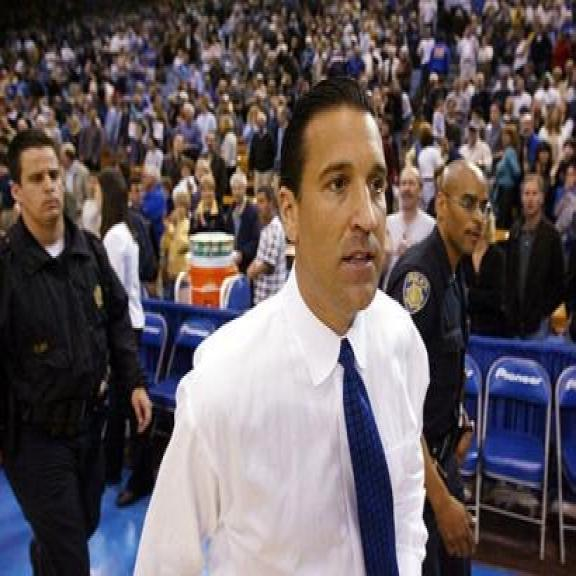face: (280, 119, 386, 321), (432, 169, 489, 260), (10, 140, 68, 226), (395, 166, 423, 212), (523, 177, 547, 223), (127, 179, 146, 207), (199, 179, 216, 208), (195, 160, 212, 185), (549, 103, 563, 132), (175, 191, 194, 212), (258, 188, 270, 221), (488, 102, 503, 128), (520, 116, 536, 140), (231, 178, 245, 205), (182, 101, 195, 128), (539, 146, 552, 171), (372, 84, 384, 110), (264, 79, 280, 98), (500, 128, 514, 148), (447, 98, 458, 123), (205, 130, 217, 152), (565, 165, 576, 188), (466, 125, 477, 147), (173, 136, 185, 155), (564, 141, 574, 163), (147, 134, 159, 151), (258, 115, 268, 135), (88, 105, 99, 123)
